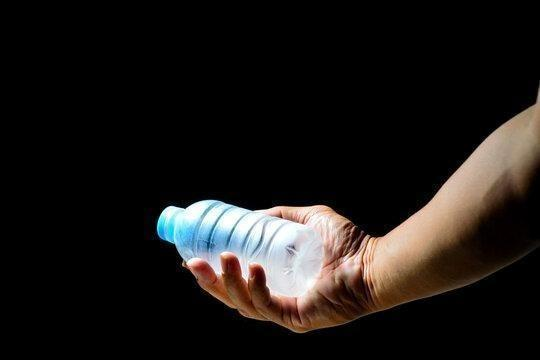bottle-plastic: (158, 198, 325, 299)
